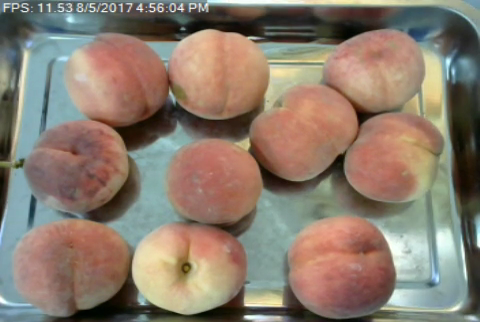Peach: (287, 215, 397, 319), (13, 217, 128, 315), (248, 82, 360, 181), (134, 222, 247, 316), (24, 118, 132, 212), (318, 26, 428, 115), (65, 32, 169, 126), (170, 29, 274, 121), (342, 113, 446, 202), (165, 137, 262, 226)
